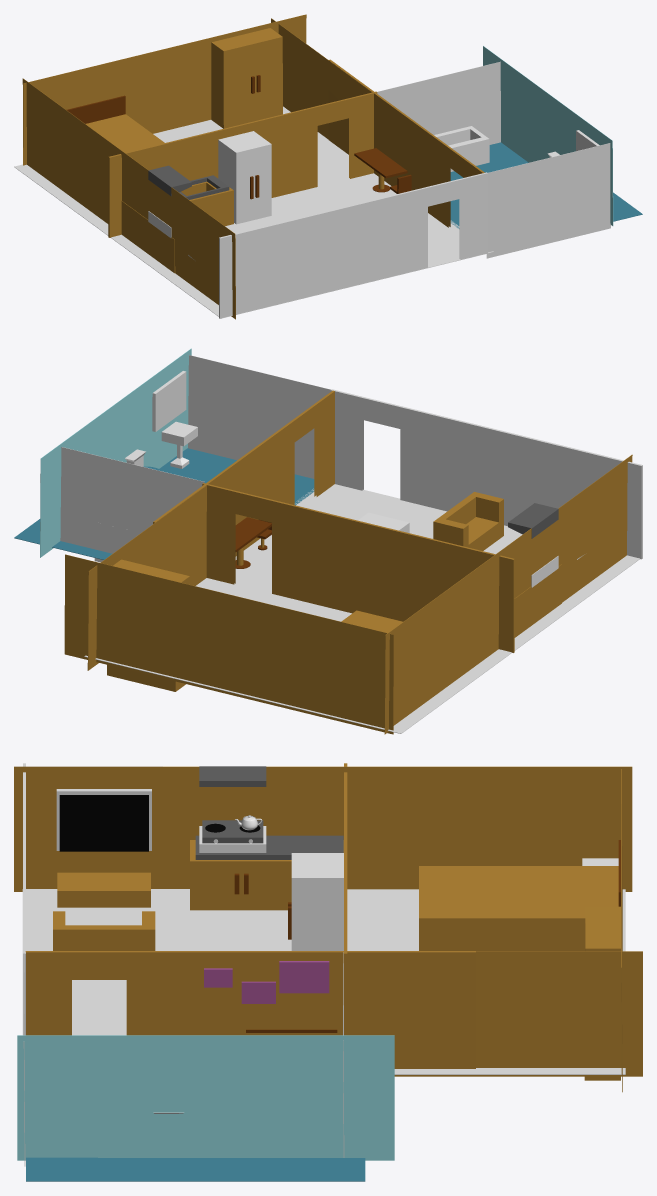
File: LivingRoom.FBX
The picture shows the model from 3 angles, top to bottom: view 1: azimuth 30°, elevation 25°; view 2: azimuth 150°, elevation 25°; view 3: azimuth 270°, elevation 25°; orthographic projection. The views are drawn at different scales.
Parts seen in each view (by area): view 1: Box008, Box004, Box006, Box007, Box010, Box001, Box017, Box005, Box009, Box002, Box003, Box012 (+8 smaller); view 2: Box006, Box007, Box008, Box004, Box001, Box010, Box002, Box009, Box005, Box003, Box015, Box023 (+7 smaller); view 3: Box004, Box005, Box009, Box003, Box001, Box025, Box023, Box012, Box011, Box042, Box016, Box014 (+11 smaller).
Part boxes in pixels (x1,y1,x2,y2): Box008: [219, 172, 487, 318]; Box004: [22, 78, 235, 319]; Box006: [23, 14, 306, 165]; Box007: [108, 91, 377, 237]; Box010: [486, 143, 610, 258]; Box001: [14, 106, 493, 318]; Box017: [211, 28, 282, 128]; Box005: [483, 46, 613, 225]; Box009: [328, 59, 484, 227]; Box002: [377, 61, 500, 144]; Box003: [271, 18, 371, 139]; Box012: [218, 131, 271, 224]; Box006: [64, 554, 393, 734]; Box007: [202, 483, 514, 652]; Box008: [330, 389, 642, 559]; Box004: [384, 454, 632, 734]; Box001: [84, 484, 639, 733]; Box010: [188, 355, 330, 478]; Box002: [60, 447, 204, 553]; Box009: [153, 390, 334, 585]; Box005: [40, 348, 191, 557]; Box003: [87, 485, 206, 670]; Box015: [433, 492, 503, 550]; Box023: [14, 448, 314, 559]; Box004: [14, 766, 632, 891]; Box005: [17, 1035, 394, 1160]; Box009: [25, 951, 475, 1068]; Box003: [394, 951, 642, 1076]; Box001: [22, 889, 625, 1074]; Box025: [419, 866, 618, 927]; Box023: [26, 1157, 365, 1181]; Box012: [291, 853, 343, 950]; Box011: [190, 840, 343, 910]; Box042: [59, 795, 148, 851]; Box016: [419, 927, 584, 951]; Box014: [57, 872, 150, 907].
Bounding box in the file's own units: 1627 × 355 × 1436.
